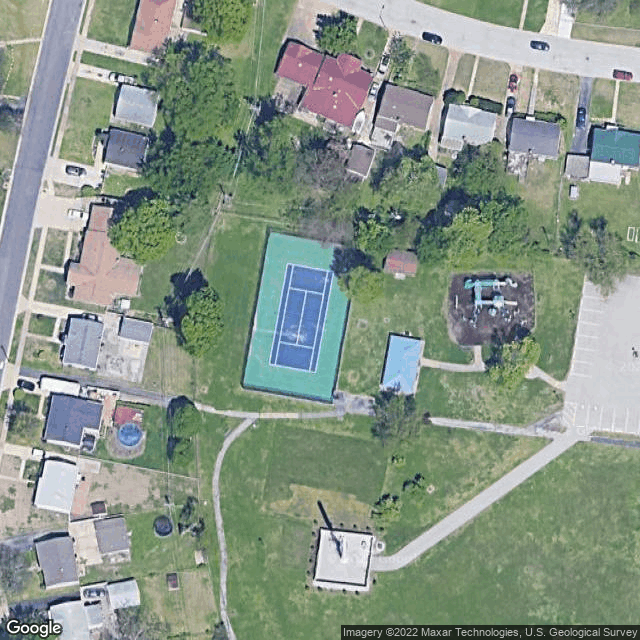Court: (266, 261, 335, 374)
